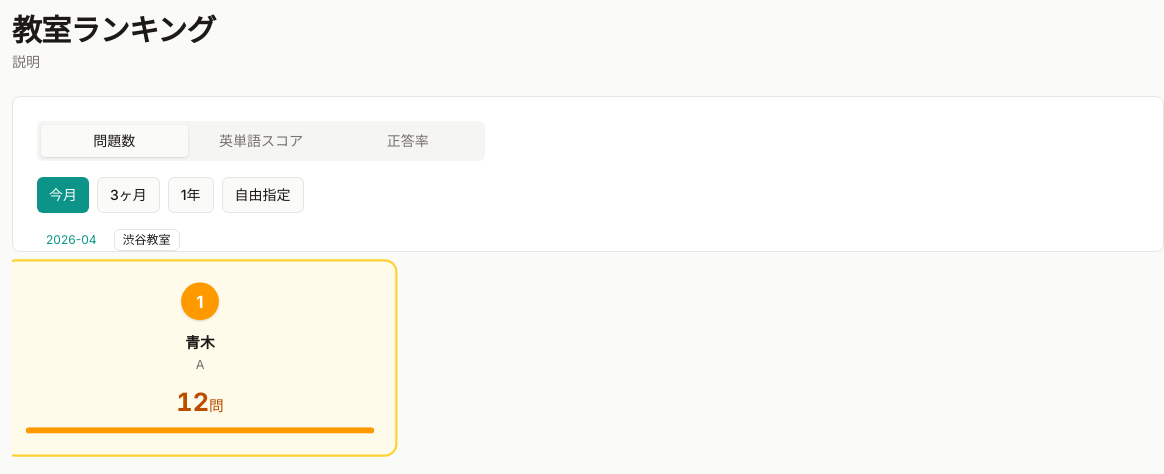
Test: RankingPageClient › 自由指定では月入力を表示し、不正な入力中は取得しない
The width and height of the screenshot is (1164, 474).
expect the text "2026-04" is shown: met, box x1=37 y1=229 x2=106 y2=251
Click the button "自由指定": (263, 195) x1=222 y1=177 x2=304 y2=213
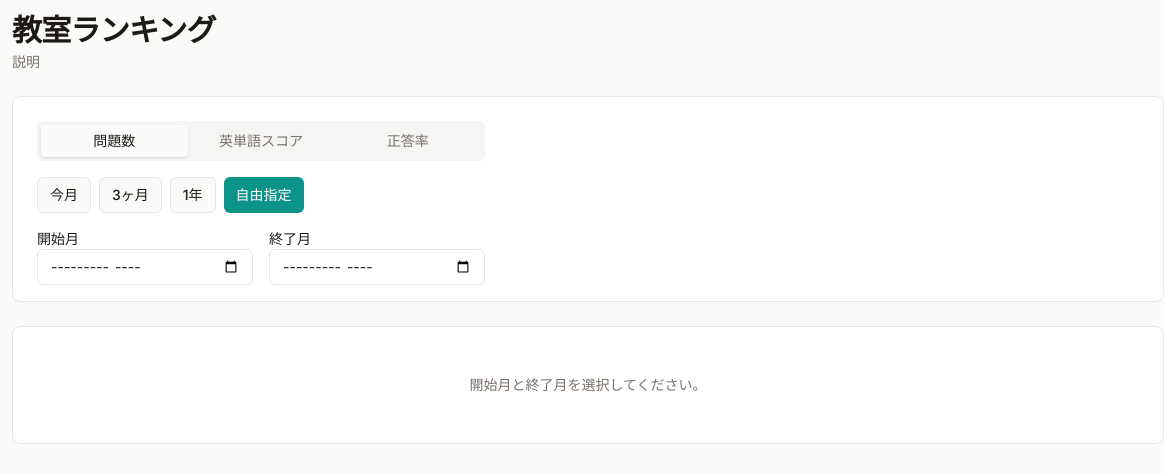
expect the field labelled "開始月" is shown: met
expect the text "開始月と終了月を選択してください。" is shown: met, box x1=469 y1=376 x2=707 y2=393
In the field labelled "開始月": (145, 267) x1=37 y1=249 x2=253 y2=285, type "2026-04"
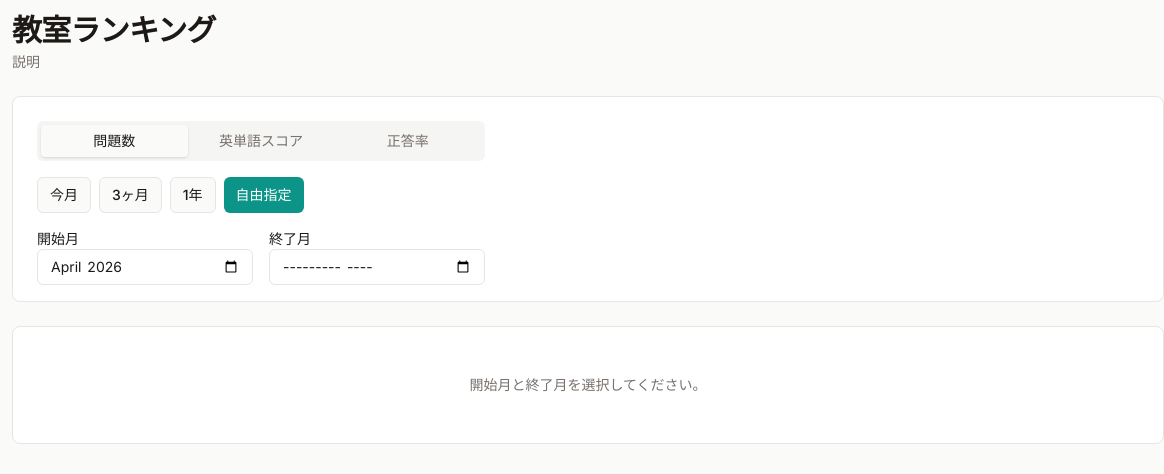
In the field labelled "終了月": (377, 267) x1=269 y1=249 x2=485 y2=285, type "2026-03"
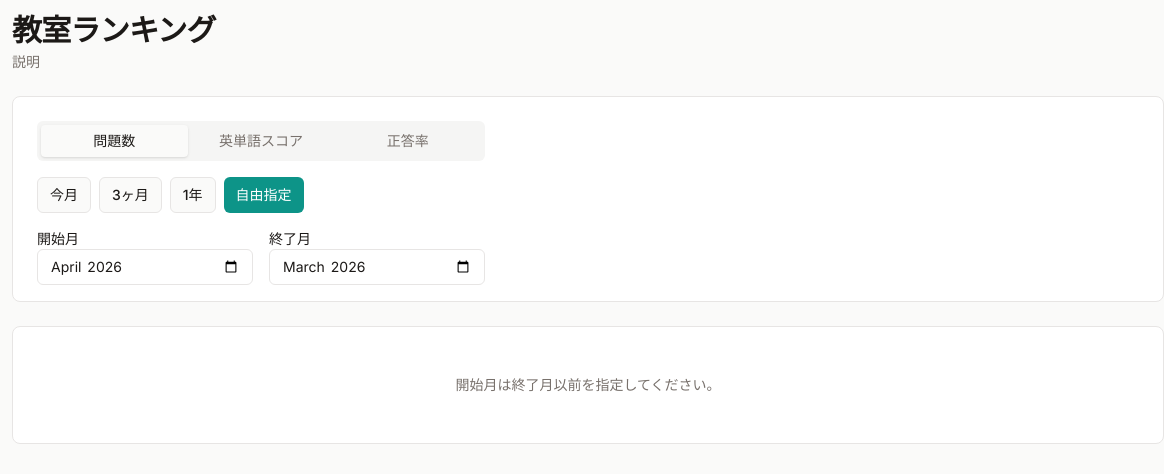
expect the text "開始月は終了月以前を指定してください。" is shown: met, box x1=455 y1=376 x2=721 y2=393
